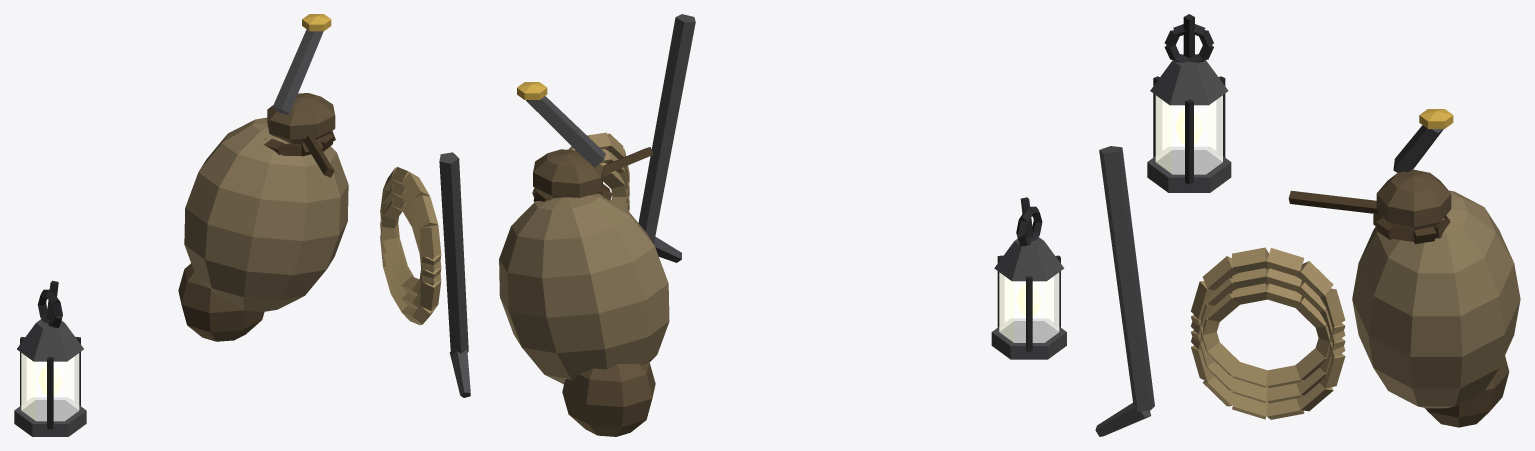
The model's file is grave_robber_gear.glb.
3 renders of one model, left to right at view 1: azimuth 30°, elevation 25°; view 2: azimuth 150°, elevation 25°; view 3: azimuth 270°, elevation 25°, orthographic. The views are drawn at different scales.
Parts seen in each view (by area): view 1: grave_robber_gear; view 2: grave_robber_gear; view 3: grave_robber_gear.
Part boxes in pixels (bbox=[...]): grave_robber_gear: bbox=[14, 14, 470, 436]; grave_robber_gear: bbox=[499, 14, 1066, 436]; grave_robber_gear: bbox=[1095, 14, 1520, 436].
Size of the model in its own units: 1.04 by 0.705 by 0.7573.
